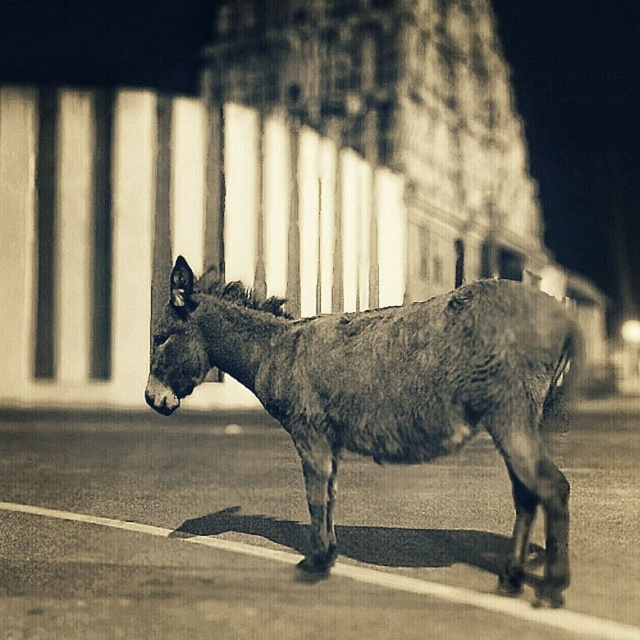Mule: (145, 250, 561, 591)
